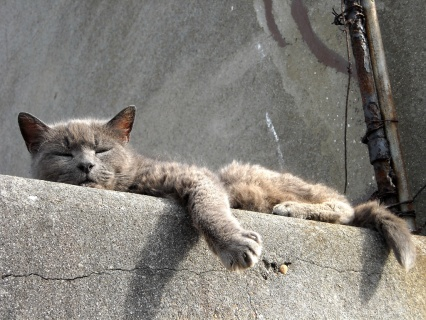Cat: (16, 102, 417, 272)
